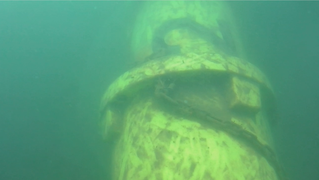2: (151, 17, 239, 57)
pipe: (97, 1, 278, 180)
